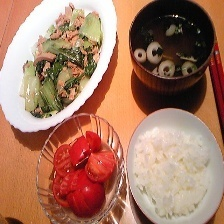rice: (134, 126, 213, 218)
